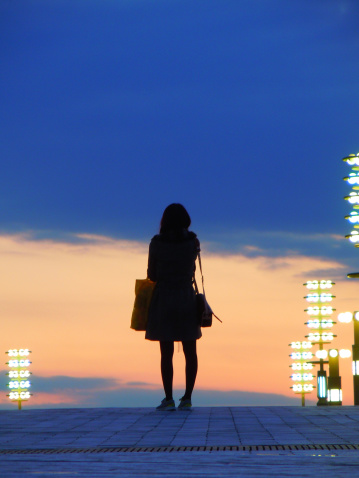em pe: (143, 188, 214, 404)
